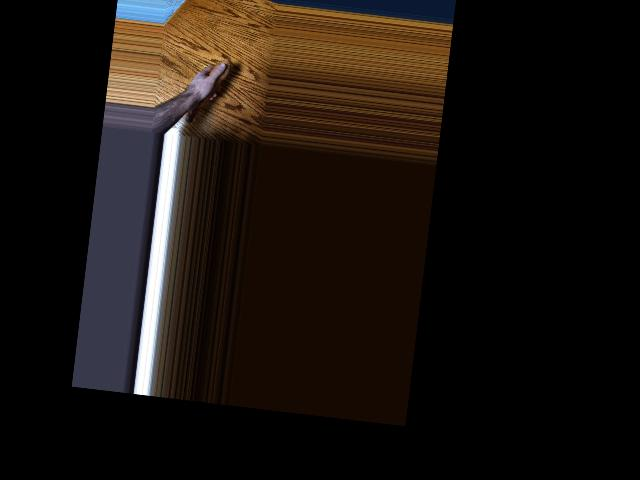sweet_potato: (182, 53, 232, 138)
